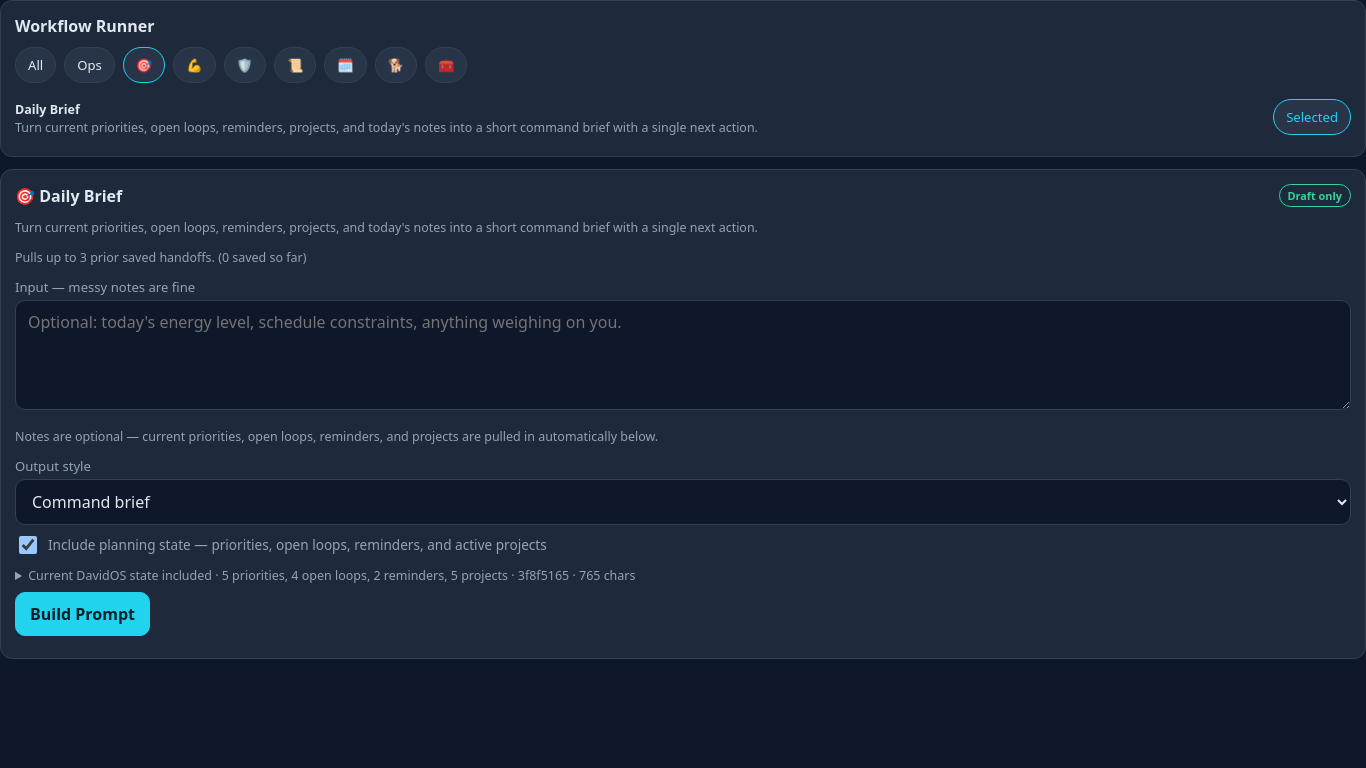
Test: Workflow Runner planning-state inclusion (DOS-WF-002A) › Copy Request Only stays disabled with "Nothing typed to copy." when notes are empty
Click the button "Build Prompt": (82, 614) [15,592,150,636]
(page scrolled)
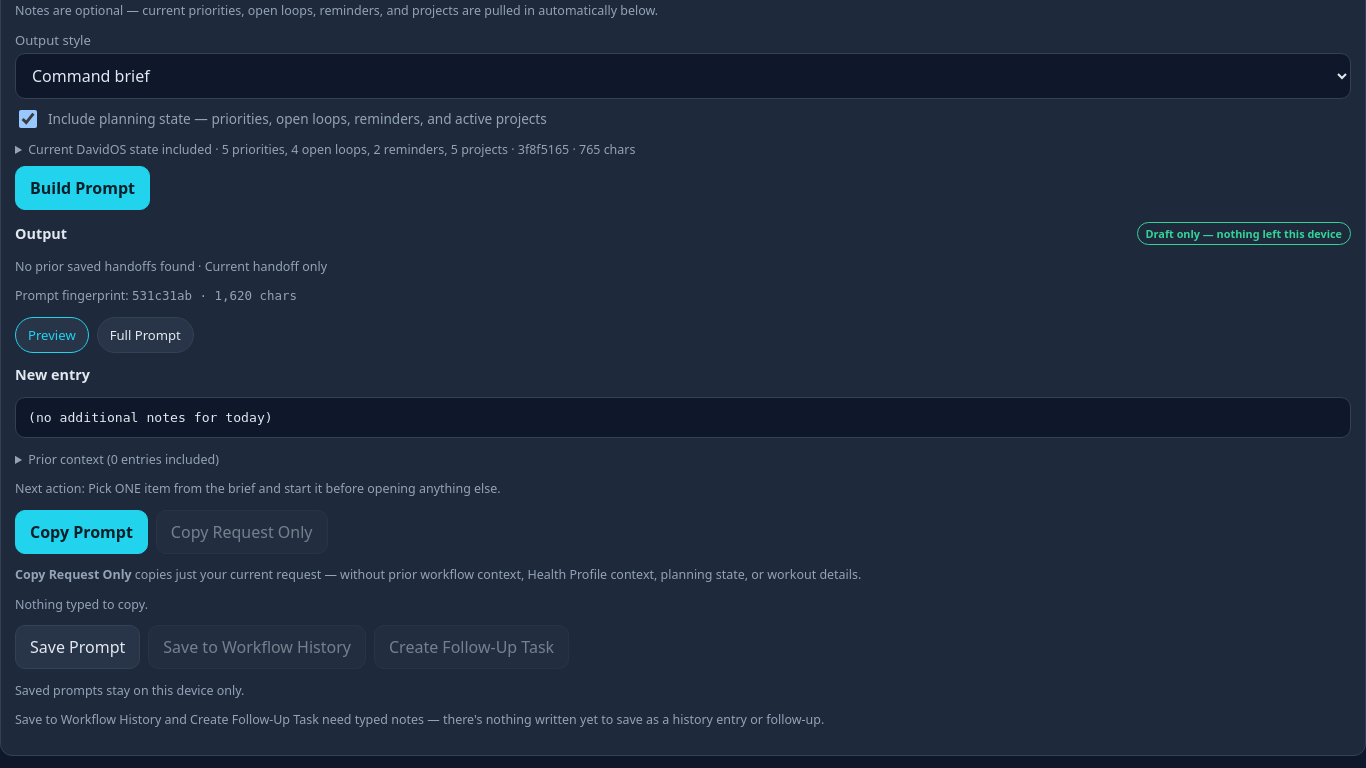
Check: the button "Copy Request Only" is disabled, box [156,510,328,554]
Check: the text "Nothing typed to copy." is shown, box [15,596,148,613]
